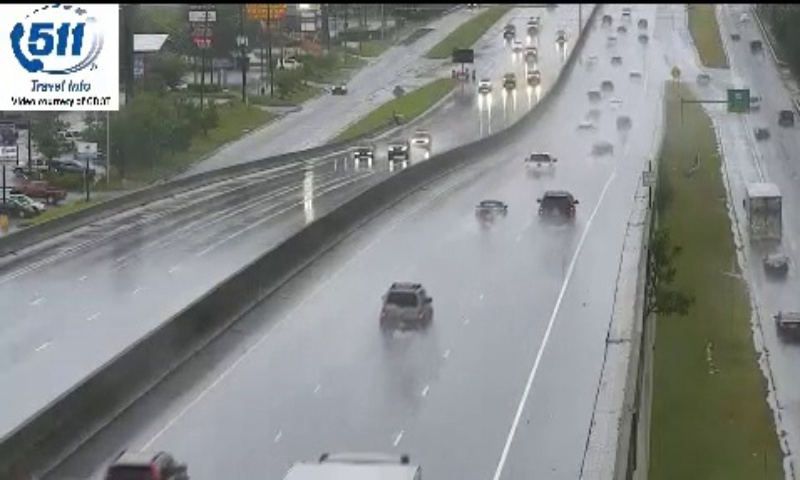car: (381, 283, 431, 329), (538, 190, 575, 224), (525, 152, 555, 177), (475, 200, 507, 222)
